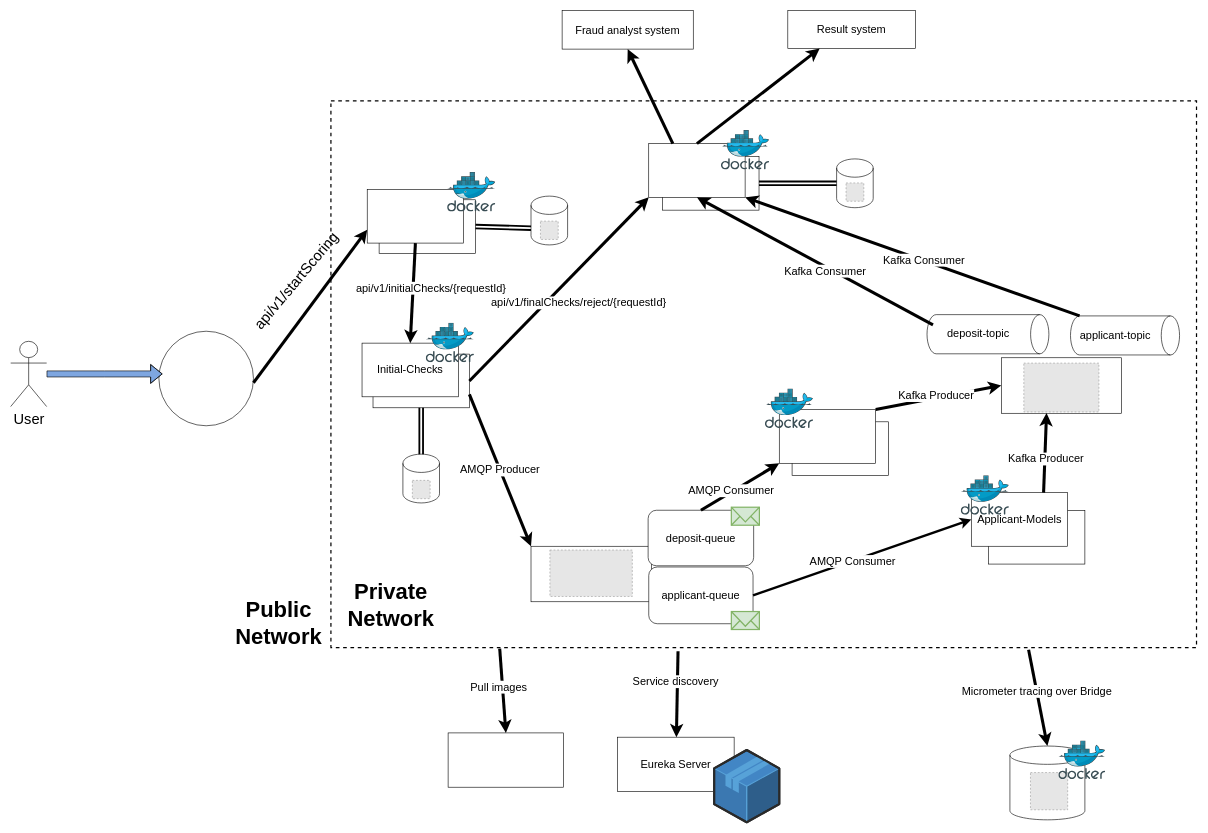
Image size: 1208x833. Some labels were removed from this diagram. Grey dashed boxes stand in for pictures. Here are the shapes that lost their labels. From the top down, the centre of each, then its label:
pixel 696 170: Final-Checks
pixel 415 216: Start-Scoring
pixel 205 378: Load Balancer (K8S or Spring Cloud ApiGateway)
pixel 827 436: Deosit-Models
pixel 505 759: Docker Hub
